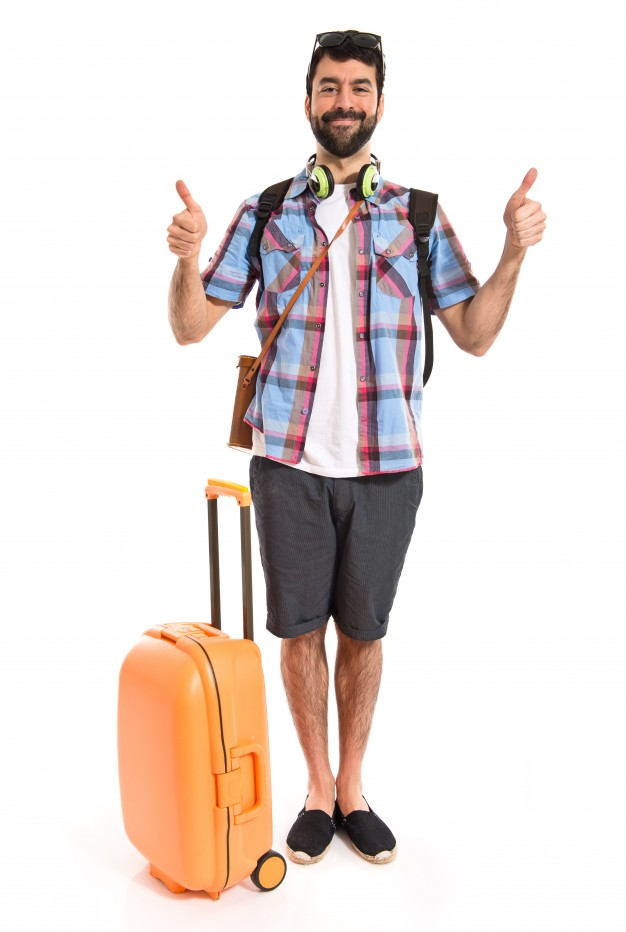thumbsup: (510, 166, 548, 249), (166, 179, 201, 257)
